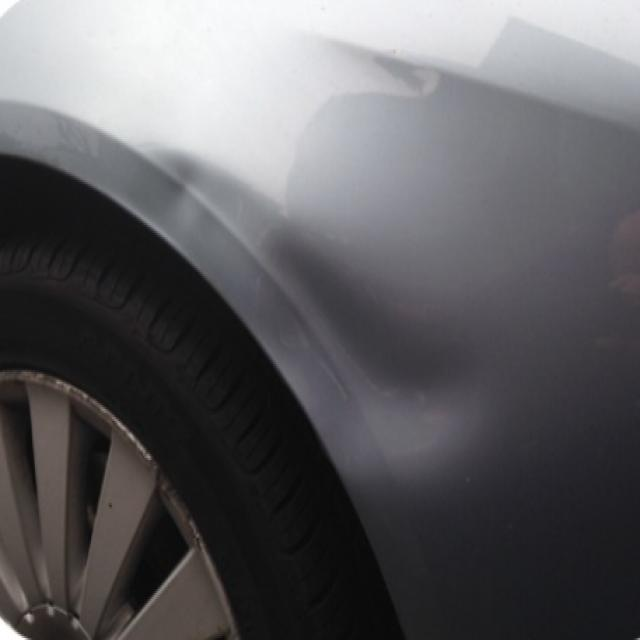dents: (167, 125, 500, 414)
